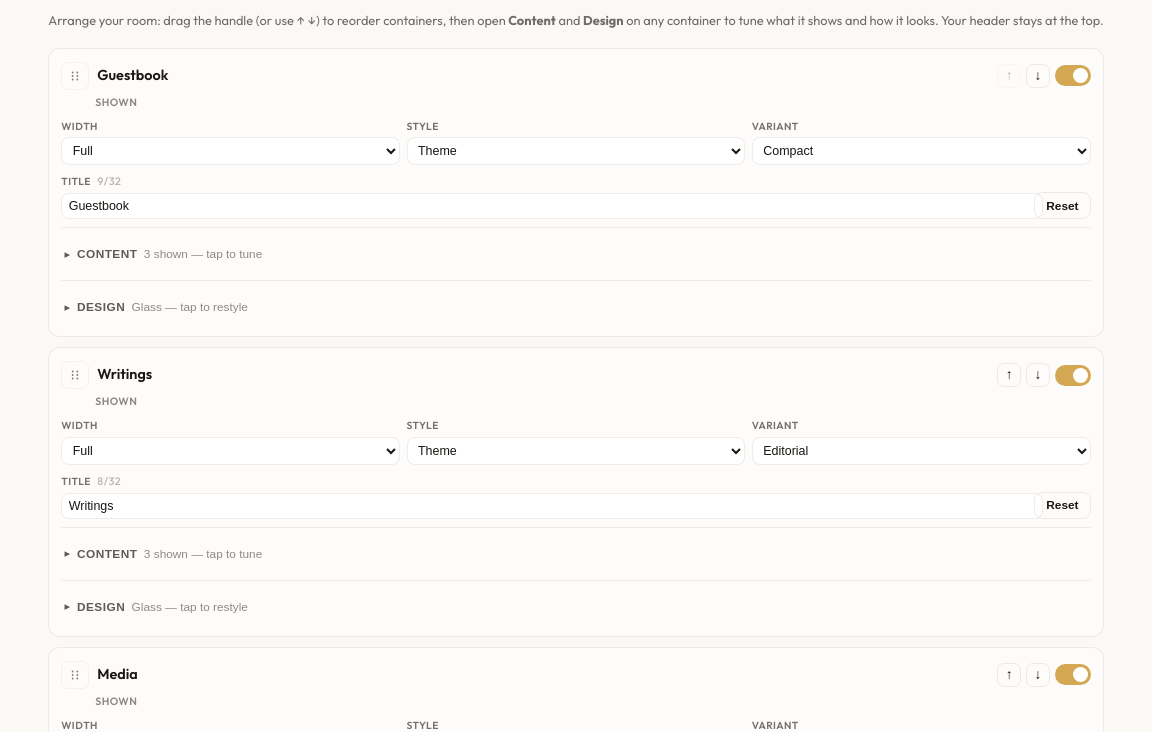
Test: LayoutPanel — drag affordance + reorder wiring › cancelling the Reset confirm leaves the block untouched
The width and height of the screenshot is (1152, 732).
Click the button with aria-label "Reset Guestbook to defaults".
click(1062, 206)  # box [1034, 192, 1091, 219]
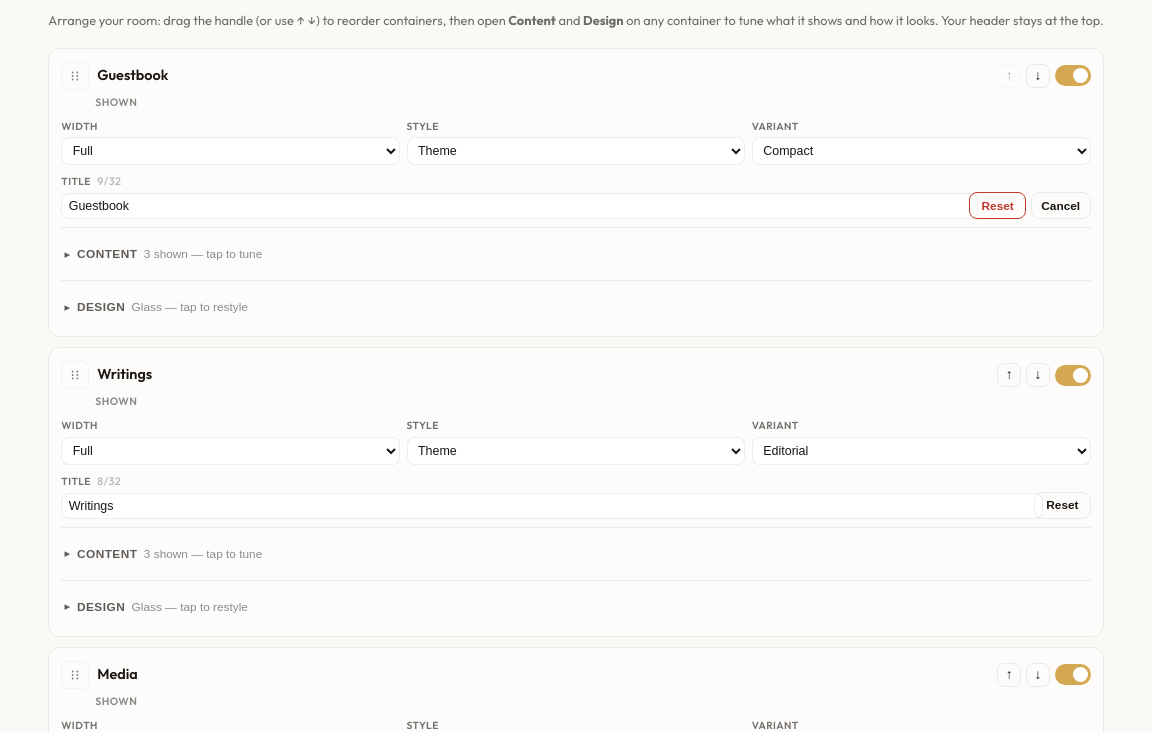
Click the button "Cancel".
click(1061, 206)  # box [1031, 192, 1091, 219]
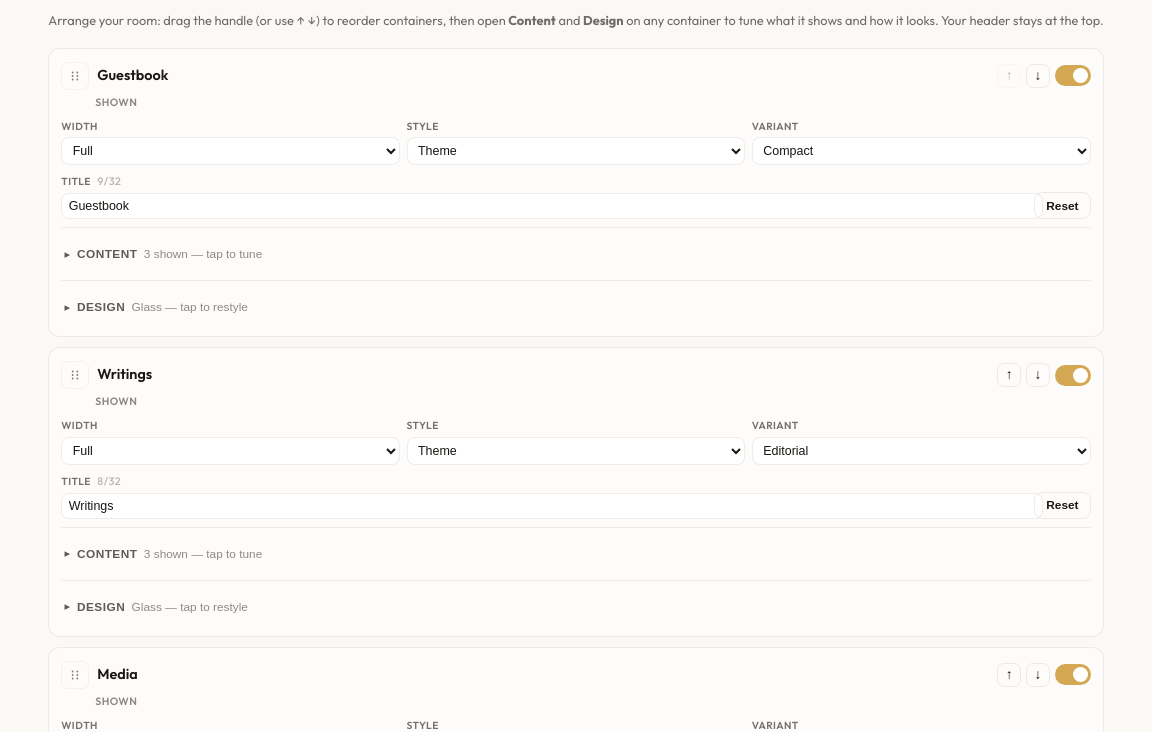
Expected: the button with aria-label "Reset Guestbook to defaults" is shown, [1034, 192, 1091, 219]
